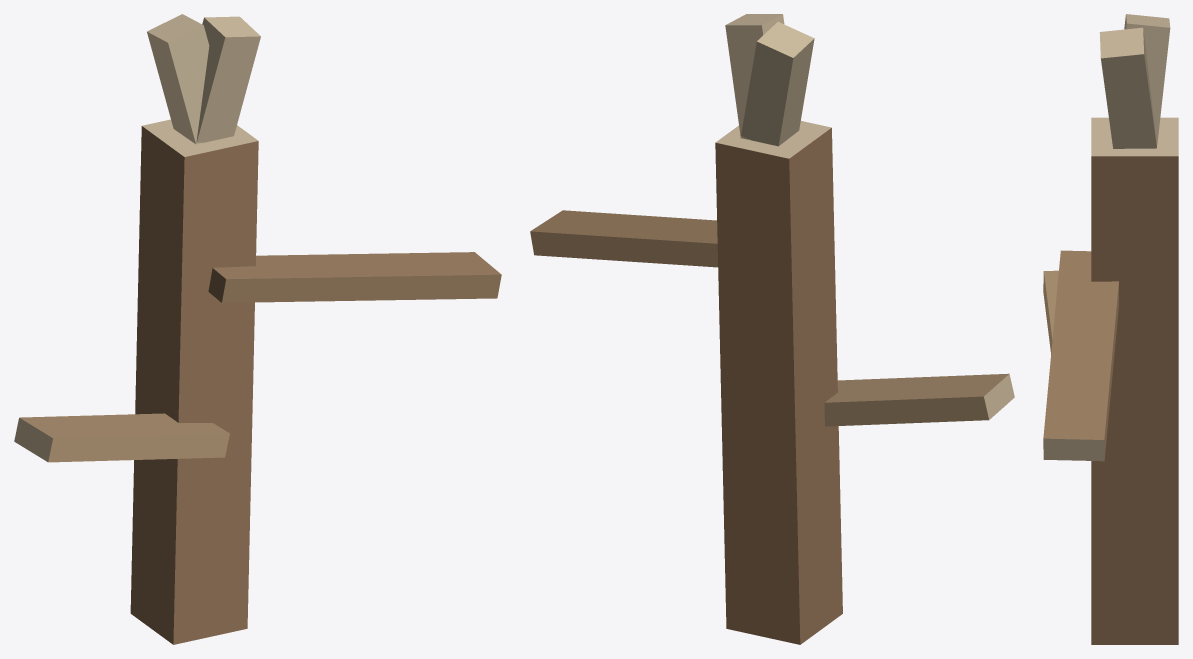
The model's file is stake.glb.
3 renders of one model, left to right at view 1: azimuth 30°, elevation 25°; view 2: azimuth 150°, elevation 25°; view 3: azimuth 270°, elevation 25°, orthographic. The views are drawn at different scales.
Visible parts, largest first — view 1: stake; view 2: stake; view 3: stake.
Part boxes in pixels (bbox=[...]): stake: bbox=[14, 14, 501, 644]; stake: bbox=[530, 14, 1014, 644]; stake: bbox=[1043, 14, 1178, 644].
Size of the model in its own units: 1.24 by 1.54 by 0.3103.
